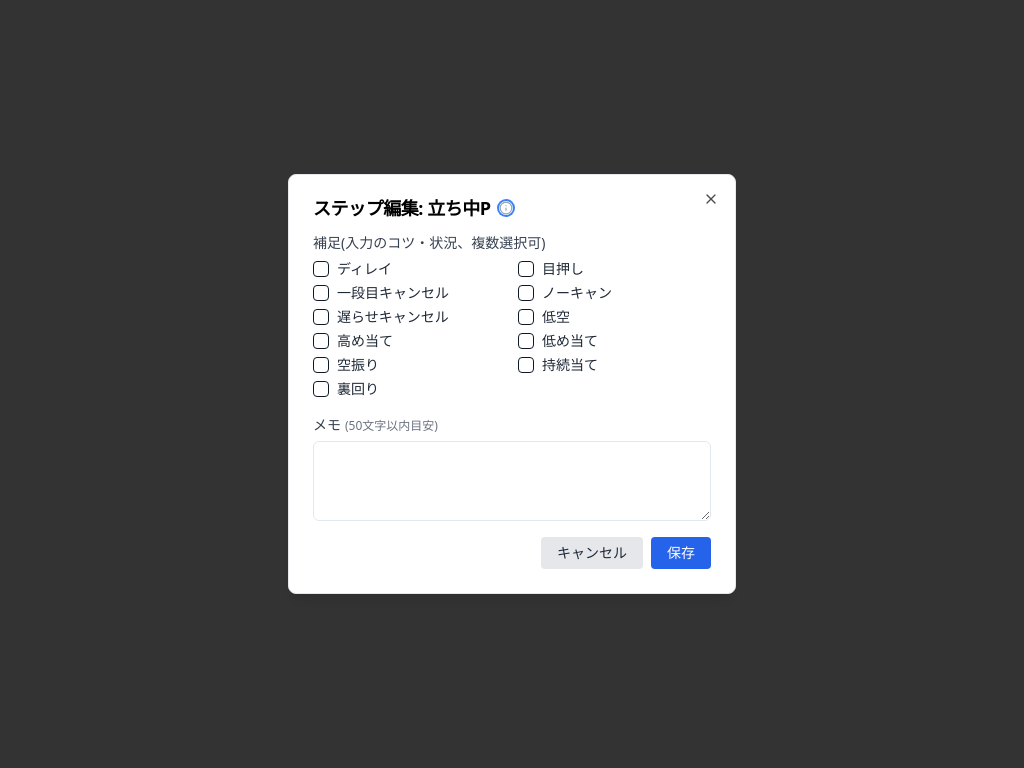
Test: ModifiersEditor info-mark (⑤ modifier 説明) › info-mark クリックで説明が表示され、既存の保存導線に副作用がない
Click the button with test id "info-mark-modifier" at (506, 208), box x1=499 y1=201 x2=513 y2=215
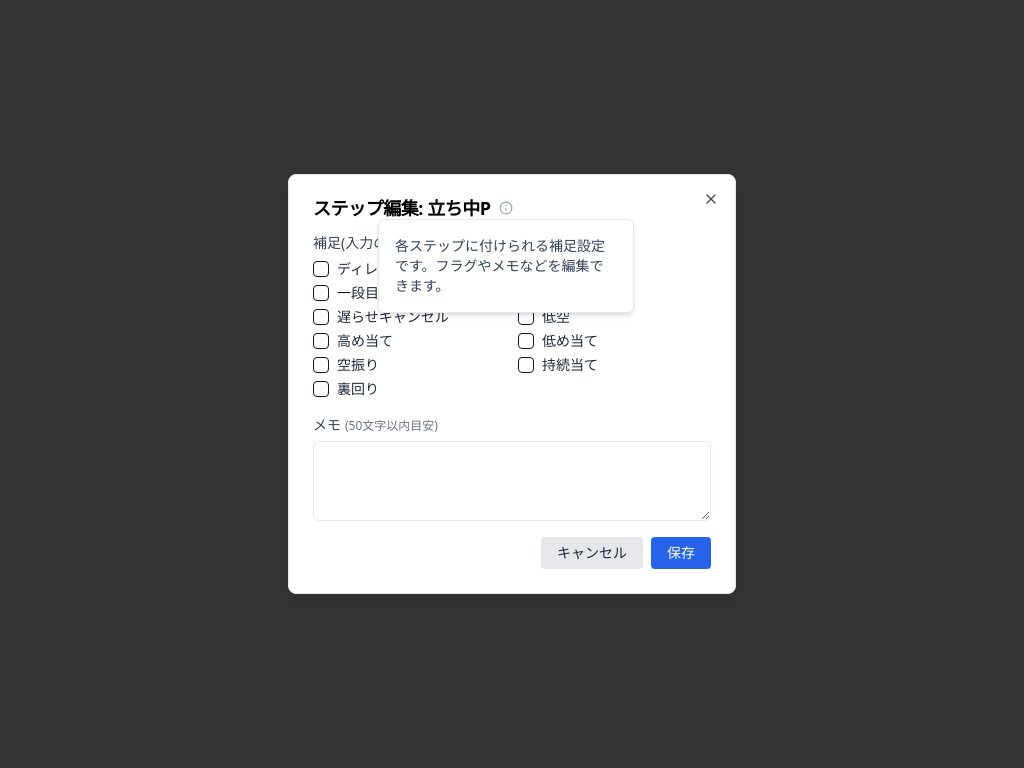
Result: the text with test id "info-mark-modifier-content" shows "補足設定" at x1=395 y1=236 x2=605 y2=295
